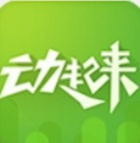ImgView: (1, 1, 139, 142)
